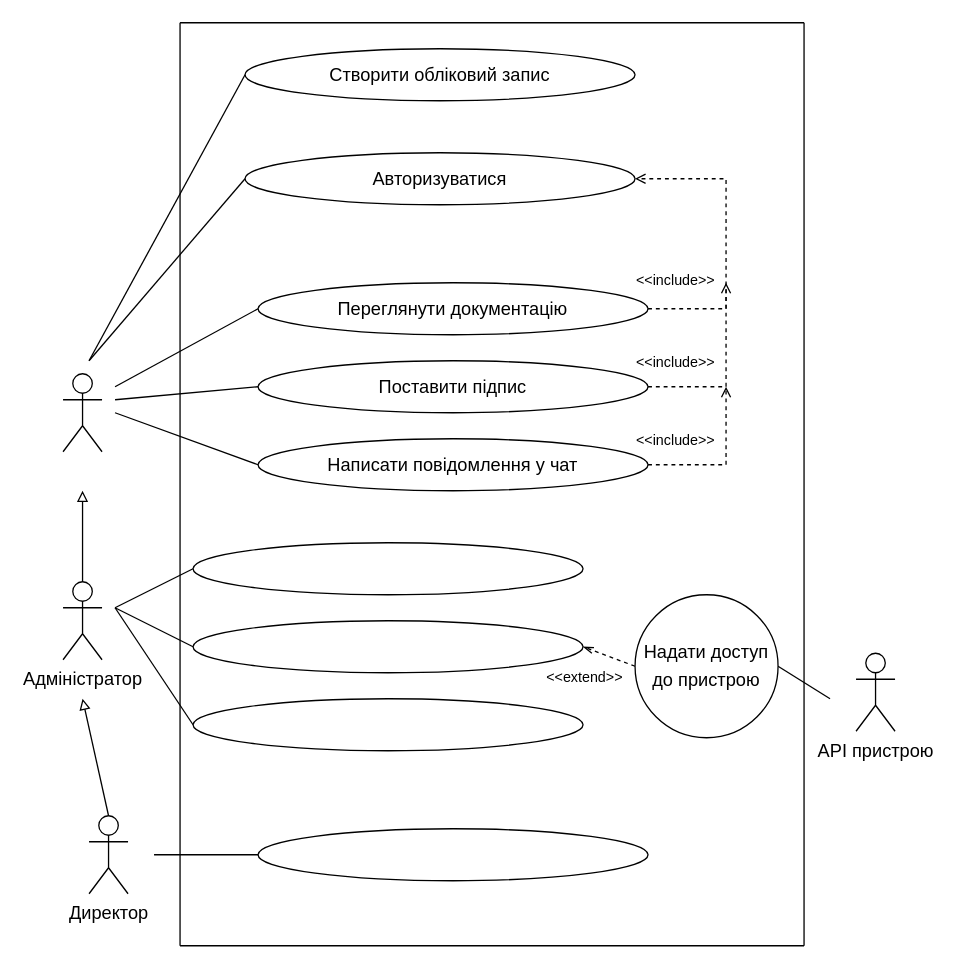
The diagram is 955 pixels wide and 970 high, and some of its shapes have lost their labels. The shapes that lost their labels are listed below. From the top down, each one's centre as x and y in pixels, then its label:
the point at 82,412: Робітник
the point at 387,568: Завантажити документацію
the point at 387,646: Створити форму для підписів
the point at 387,724: Керувати обліковими записами
the point at 452,854: Переглянути загальну аналітику даних
